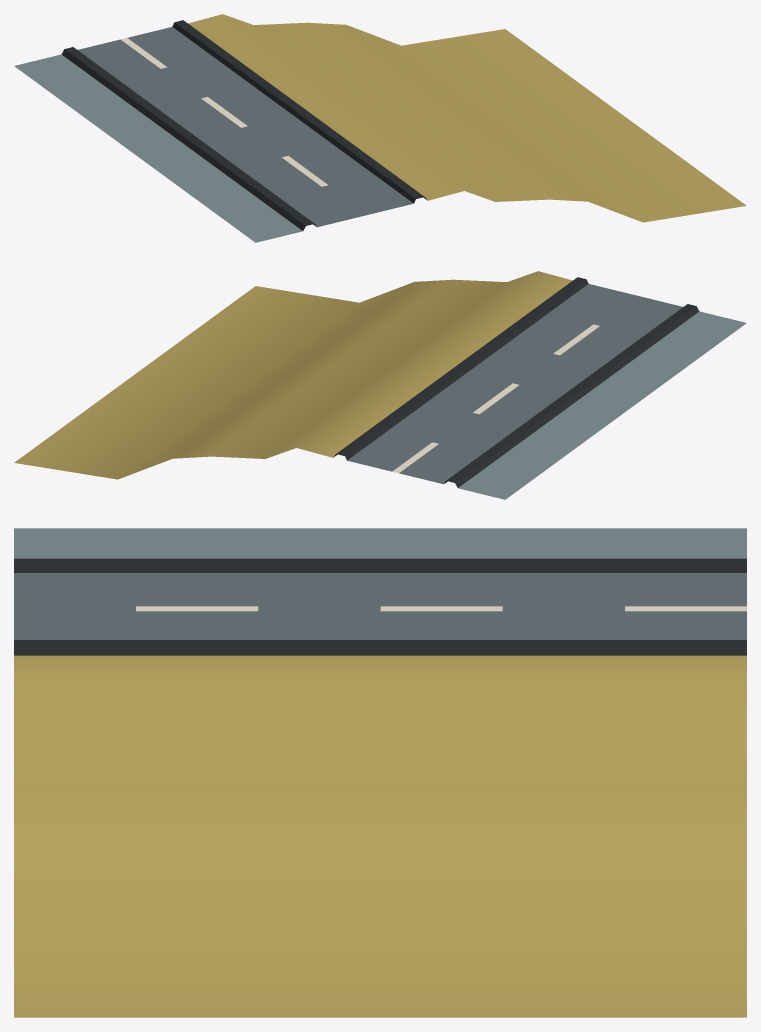
The model's file is Tentacle_Terrain_001.FBX.
The picture shows the model from 3 angles, top to bottom: view 1: azimuth 30°, elevation 25°; view 2: azimuth 150°, elevation 25°; view 3: azimuth 270°, elevation 25°; orthographic projection. The views are drawn at different scales.
Parts seen in each view (by area): view 1: Plane001; view 2: Plane001; view 3: Plane001.
Boxes of the visible parts, left/top/right/bottom form: Plane001: left=14, top=14, right=746, bottom=242; Plane001: left=14, top=271, right=746, bottom=499; Plane001: left=14, top=528, right=746, bottom=1017.
Bounding box in the file's own units: 291 × 49.51 × 248.
